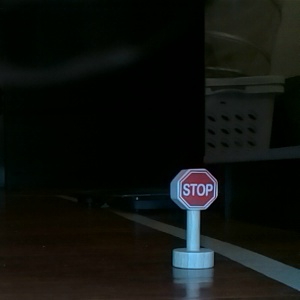stop sign: (165, 164, 221, 273)
